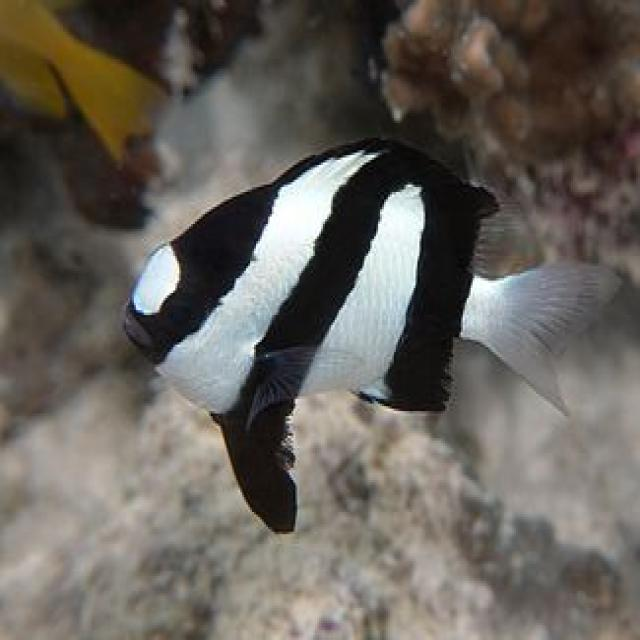ThreeStripedDamselfish: (120, 140, 630, 537)
